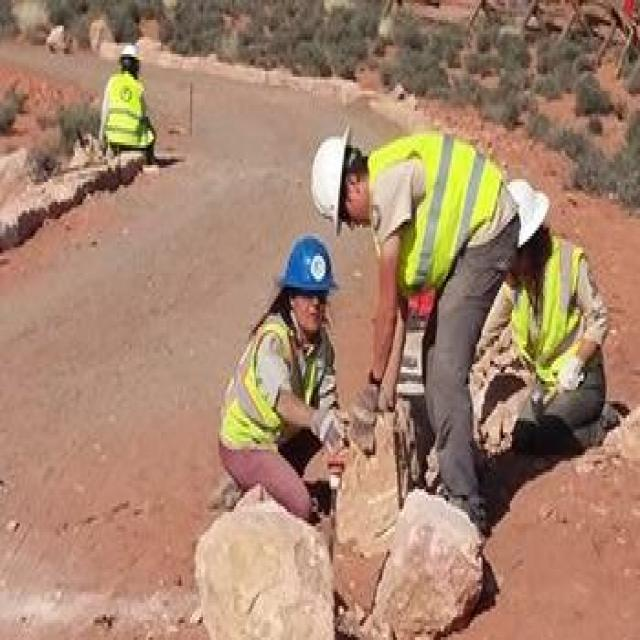Reflective-Jacket: (364, 122, 517, 322), (508, 233, 600, 410), (210, 307, 309, 464), (97, 71, 157, 157)
Safety-Helmet: (302, 122, 364, 225), (269, 225, 340, 307), (503, 174, 558, 256), (112, 37, 146, 74)
